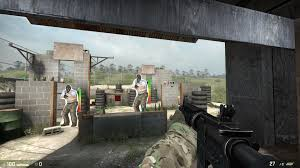gun: (176, 99, 281, 166)
